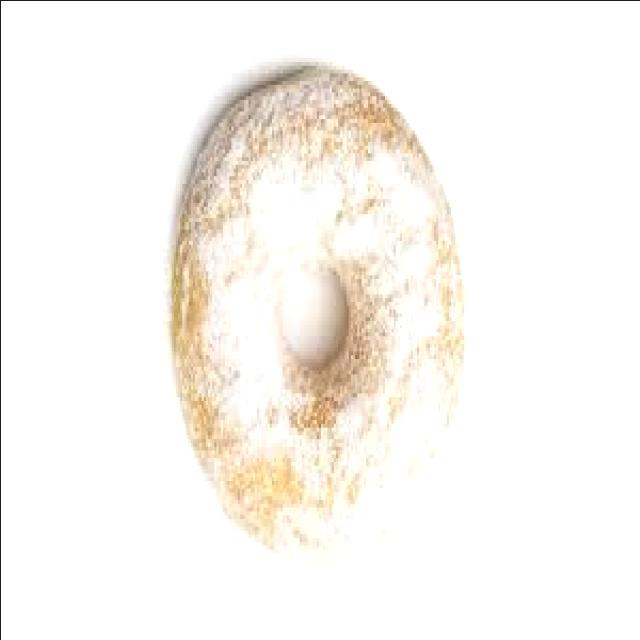donat: (164, 61, 469, 564)
